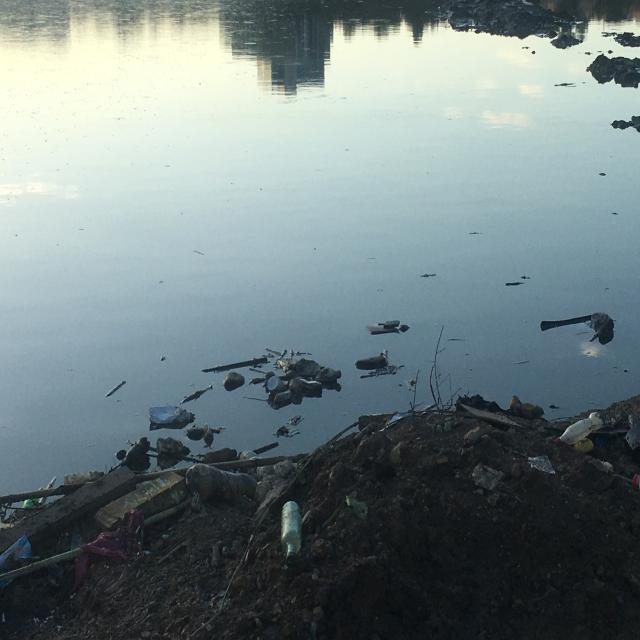Plastic bag: (156, 436, 192, 469)
Plastic bottle: (280, 499, 303, 568), (295, 356, 343, 386), (148, 403, 196, 427), (120, 436, 152, 472), (510, 395, 545, 417), (202, 445, 238, 463), (266, 374, 289, 398), (239, 449, 262, 463)
Undefined trash: (429, 0, 586, 57), (222, 345, 344, 411), (584, 54, 640, 92), (354, 348, 406, 380), (184, 422, 229, 451), (597, 24, 640, 49), (609, 109, 640, 143), (365, 318, 411, 338)
Wood: (200, 355, 270, 376)
